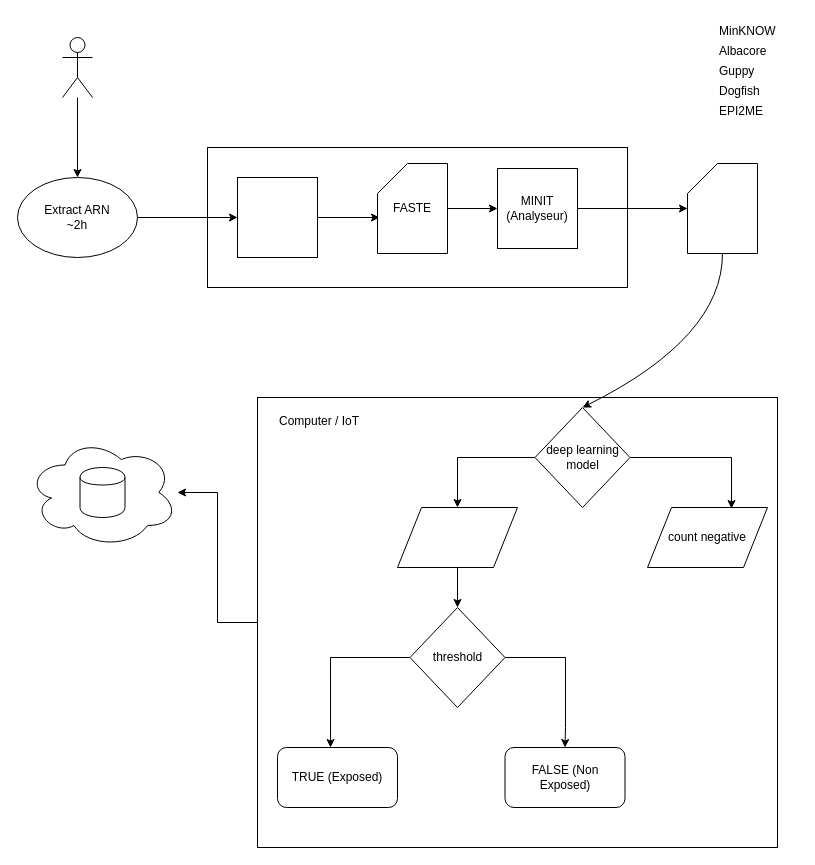
This 815x865 diagram has some shape labels left out. Each missing label, with the centre of its shape:
Actor: point (77, 67)
count positive: point (457, 537)
FASTQ: point (722, 208)
MINion (sequenceur): point (277, 217)
